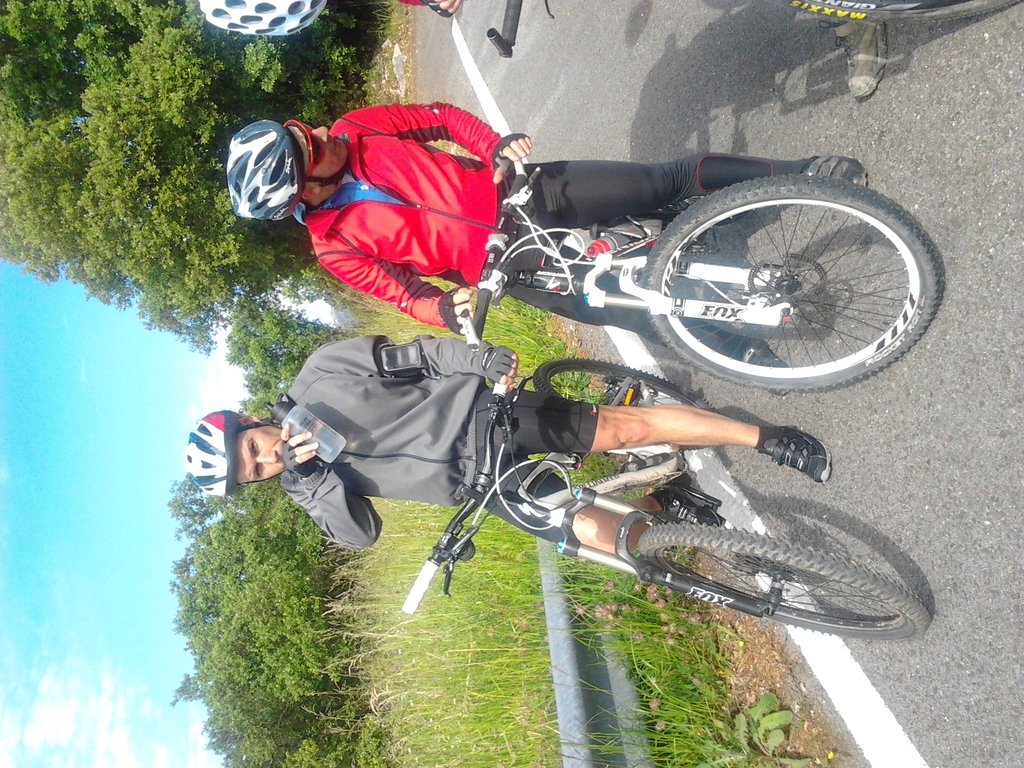Person: (224, 99, 867, 329), (184, 334, 831, 554)
